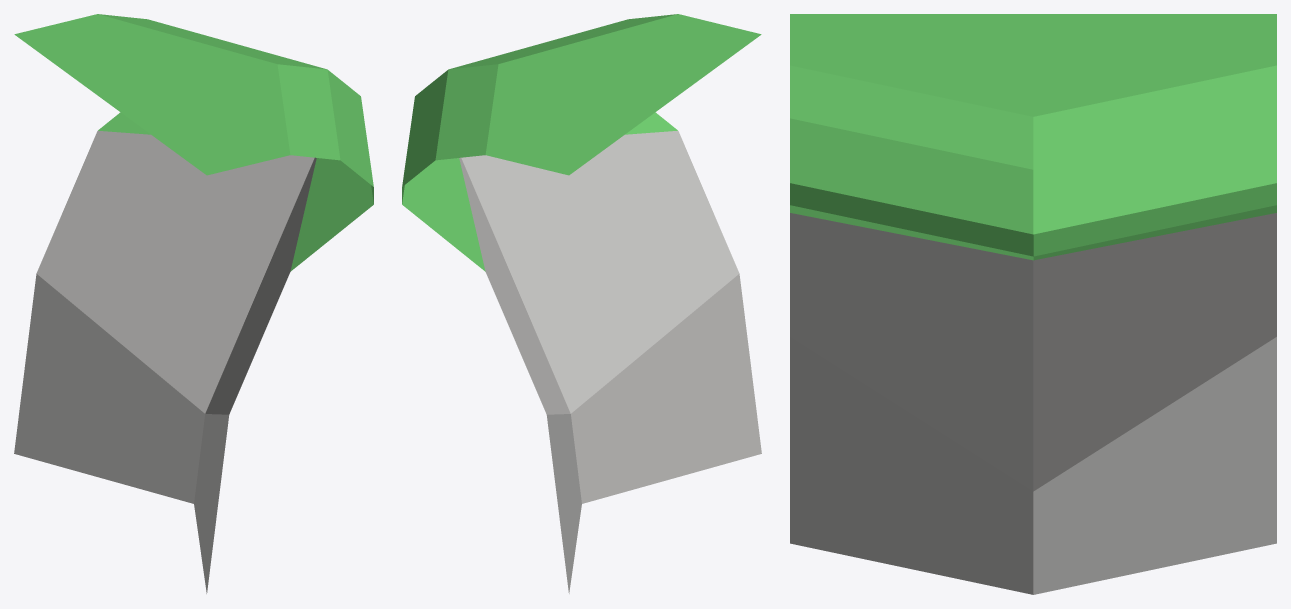
The model's file is Cliff_Terrain_Side_Top.glb.
3 views of the same model, side by side, from view 1: azimuth 30°, elevation 25°; view 2: azimuth 150°, elevation 25°; view 3: azimuth 270°, elevation 25° (orthographic). The views are drawn at different scales.
Parts seen in each view (by area): view 1: Cliff_Terrain_Side_Top; view 2: Cliff_Terrain_Side_Top; view 3: Cliff_Terrain_Side_Top.
Part boxes in pixels (<box>): Cliff_Terrain_Side_Top: <box>14,14,373,593</box>; Cliff_Terrain_Side_Top: <box>402,14,761,593</box>; Cliff_Terrain_Side_Top: <box>790,14,1276,594</box>.
Bounding box in the file's own units: 0.375 × 0.6 × 0.5.
